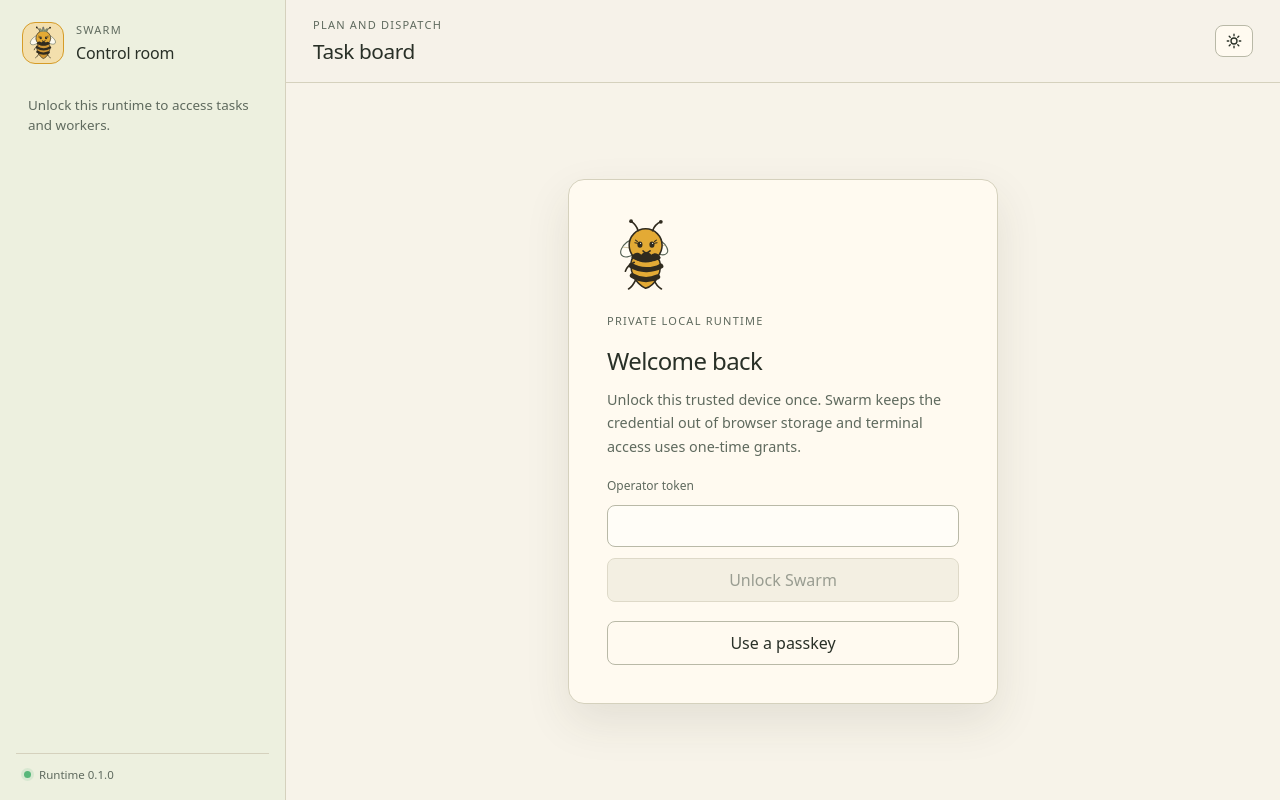
Scenario: creates a durable browser session without storing the operator token
Type "secret" into the password field labelled "Operator token" at (783, 526), box [607,505,959,547]
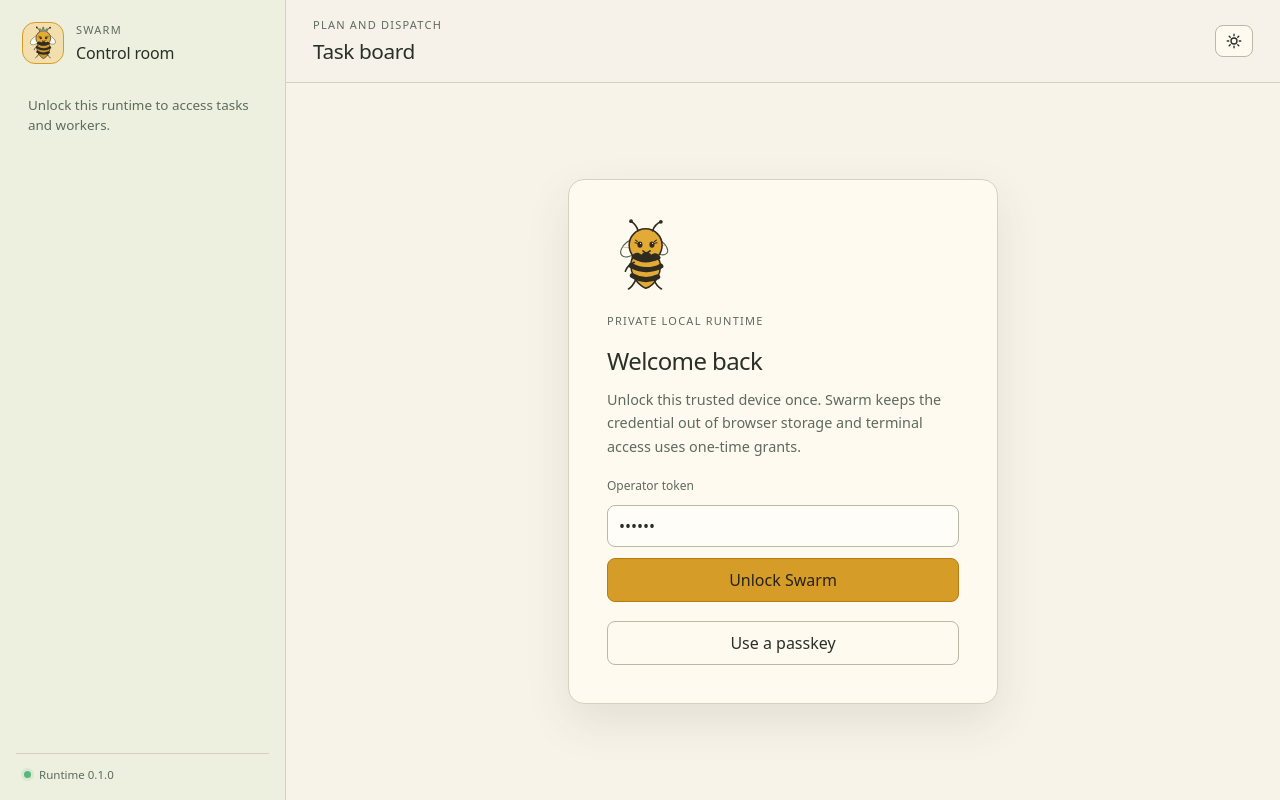
Click the button "Unlock Swarm" at (783, 580), box [607,558,959,602]
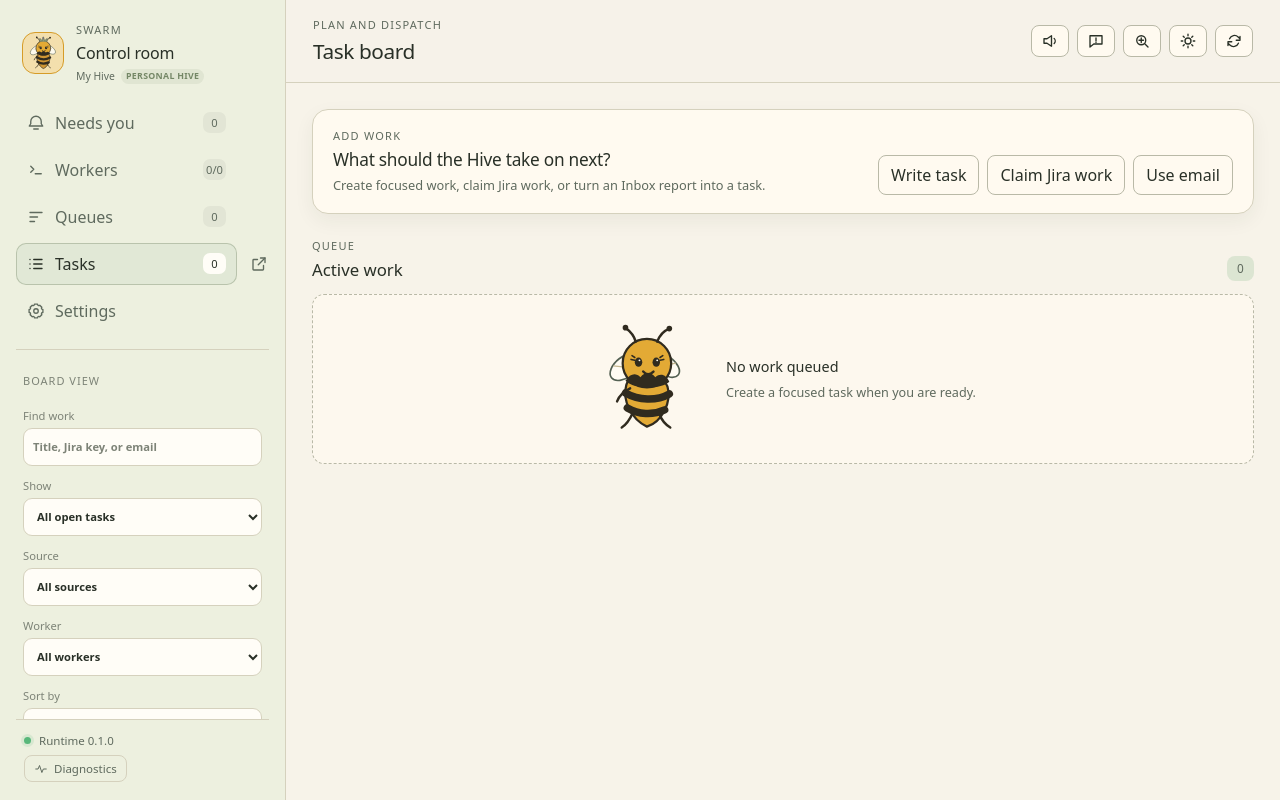
Expected: the heading "Task board" is shown, [313,37,415,65]
Expected: the heading "What should the Hive take on next?" is shown, [333,148,610,171]
Click the button named "Open quick navigation" at (1142, 41), box [1123,25,1161,57]
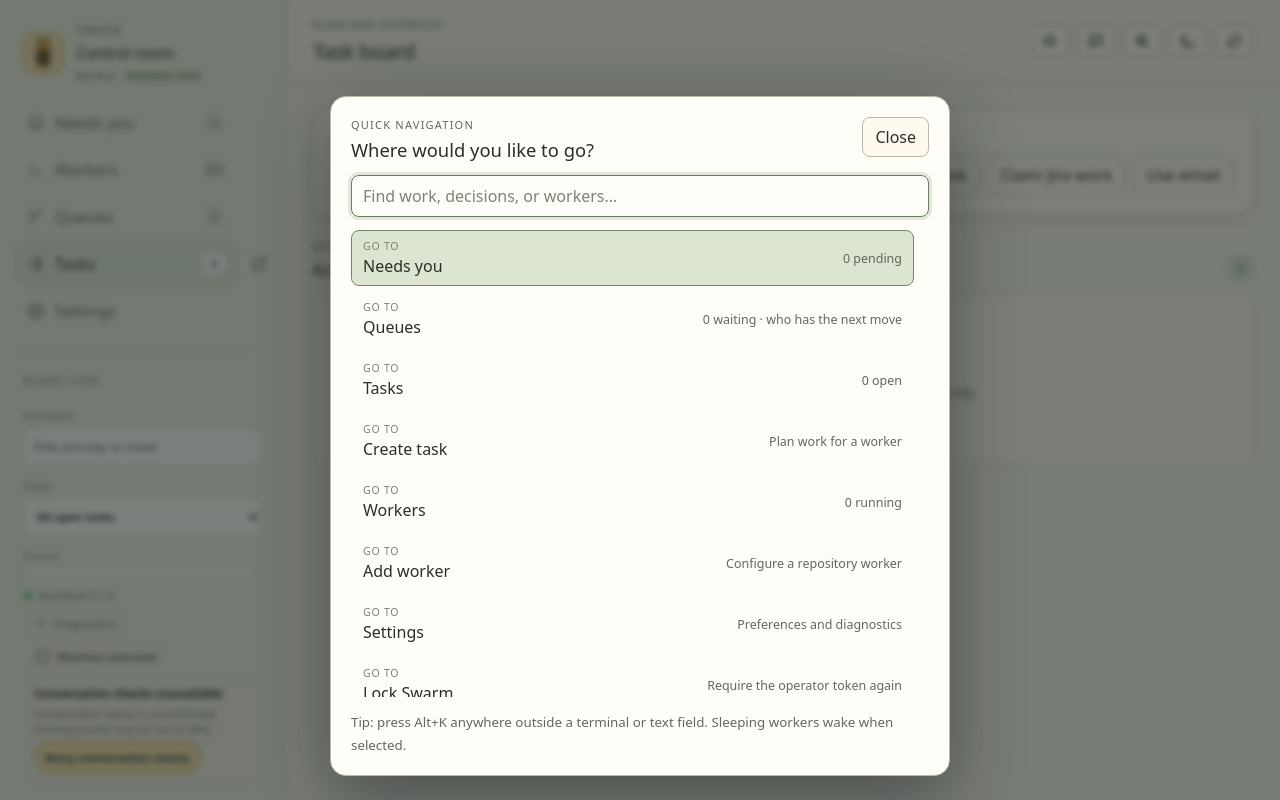
Click the option "Go to Lock Swarm Require the operator token again" at (381, 673), box [351,657,914,713]
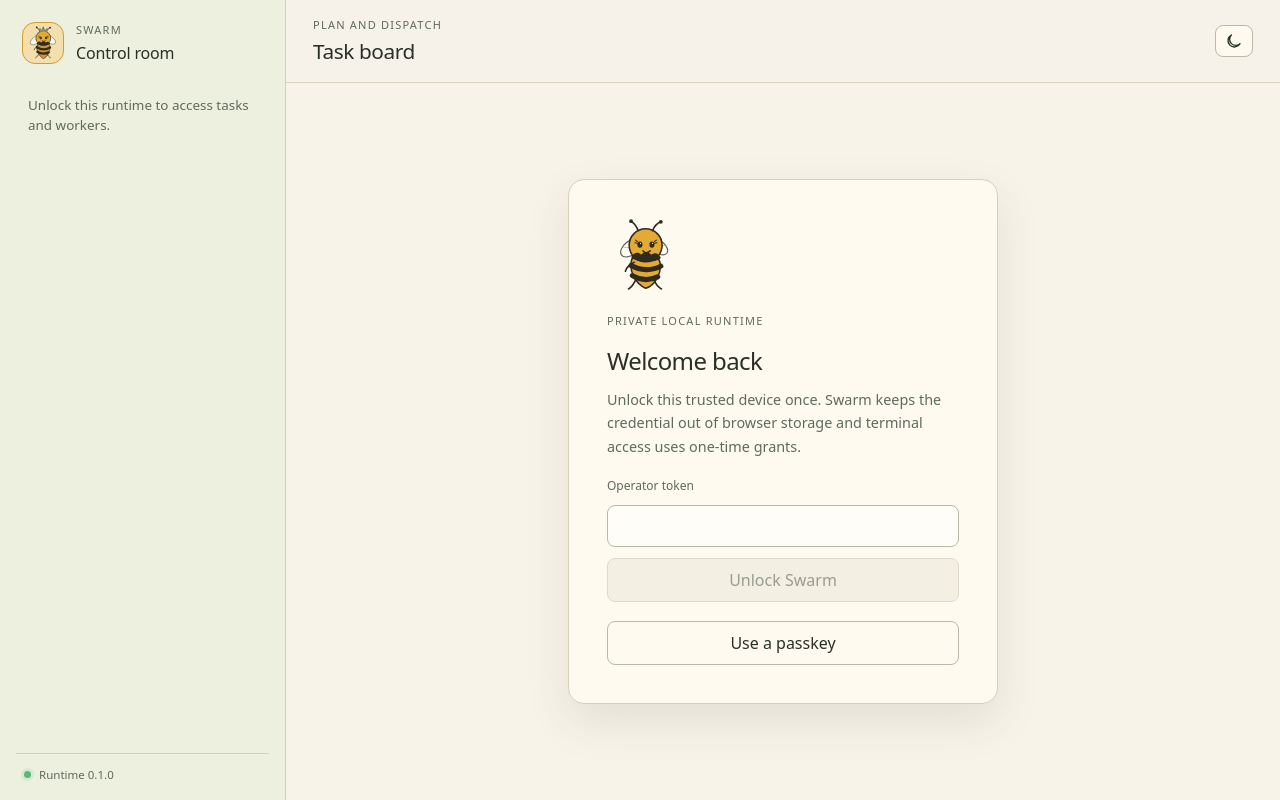
Expected: the password field labelled "Operator token" is shown, [607,505,959,547]
